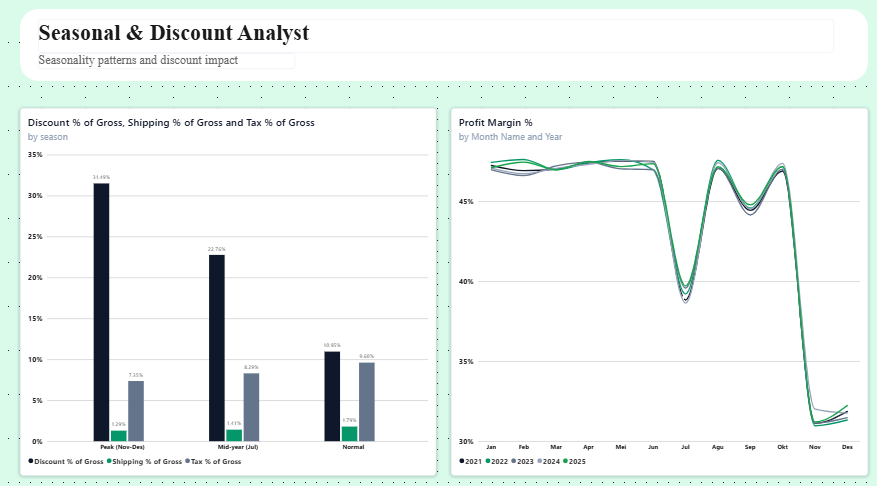

Layout of this report page (visuals, bound fields, positions):
{"tool":"powerbi","page":{"name":"Pola Musiman & Diskon","canvas":[1920,1080],"ordinal":1},"visuals":[{"type":"shape","box":[50.2,24,1850.2,157.1],"z":0},{"type":"textbox","box":[90,46.7,1736.7,73.3],"z":1000},{"type":"textbox","box":[89.5,120,560.7,34.9],"z":2000},{"type":"clusteredColumnChart","fields":{"Category":["orders_prepped.season"],"Y":["orders_prepped.Discount % of Gross","orders_prepped.Shipping % of Gross","orders_prepped.Tax % of Gross"]},"box":[50,240,908,802],"z":5000},{"type":"lineChart","fields":{"Category":["orders_prepped.Month Name"],"Y":["orders_prepped.Profit Margin %"],"Series":["orders_prepped.month.Variation.Date Hierarchy.Year"]},"box":[990,240,910,802],"z":6000}]}

Visuals, with their boxes in screenshot pixels (x1, y1, x2, y2), scaled from the page's 1920x1080 canvas onto the 877x486 screenshot:
shape: 23/11/868/81
textbox: 41/21/834/54
textbox: 41/54/297/70
clusteredColumnChart - orders_prepped.season x orders_prepped.Discount % of Gross: 23/108/438/469
lineChart - orders_prepped.Month Name x orders_prepped.Profit Margin %: 452/108/868/469
